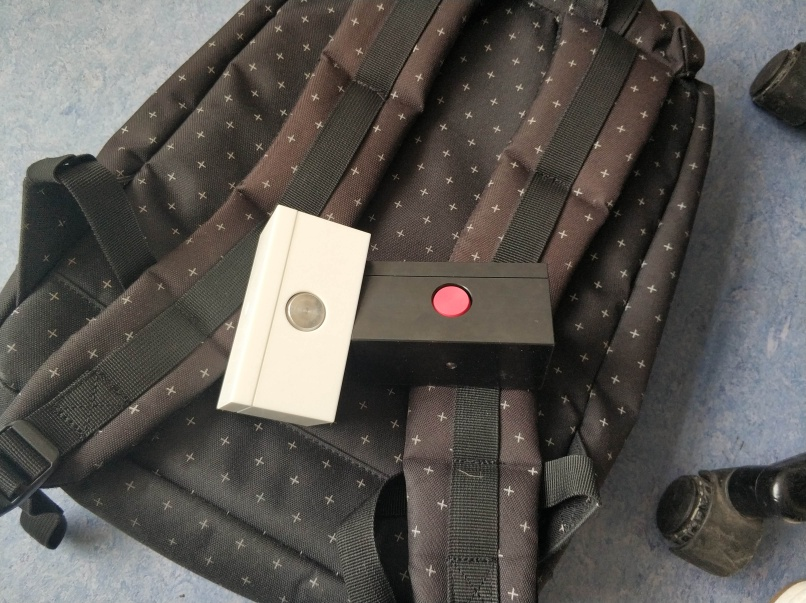black+black+red: (351, 256, 555, 388)
white+white+silver: (212, 203, 374, 430)
